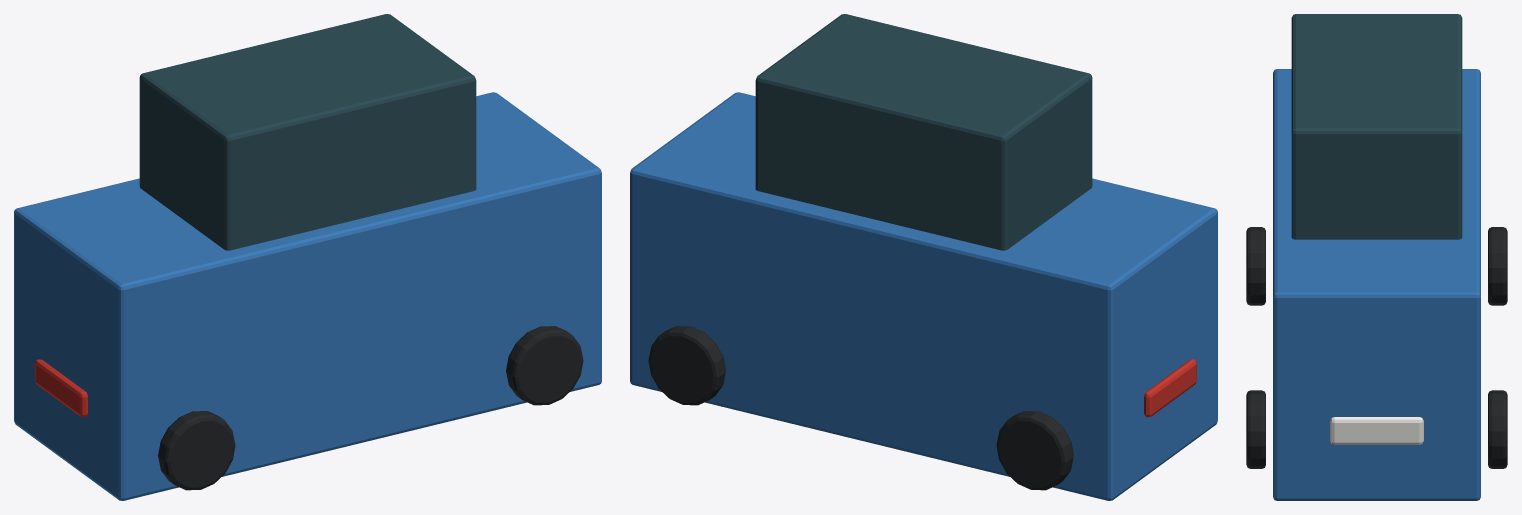
The model's file is Vehicle_016.glb.
3 views of the same model, side by side, from view 1: azimuth 30°, elevation 25°; view 2: azimuth 150°, elevation 25°; view 3: azimuth 270°, elevation 25° (orthographic). The views are drawn at different scales.
Visible parts, largest first — view 1: Vehicle_016; view 2: Vehicle_016; view 3: Vehicle_016.
Part boxes in pixels (x1=…): Vehicle_016: x1=14, y1=14, x2=601, y2=500; Vehicle_016: x1=630, y1=14, x2=1217, y2=500; Vehicle_016: x1=1246, y1=14, x2=1507, y2=500.
Bounding box in the file's own units: 5.08 × 3.2 × 2.38.
